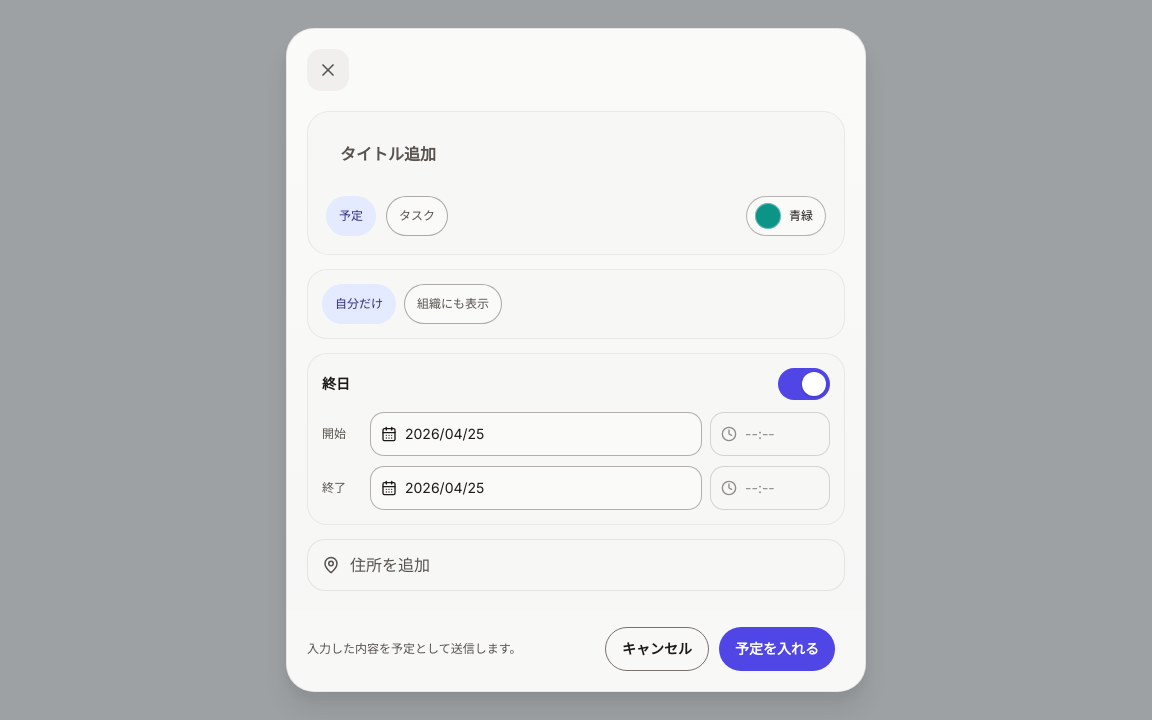
Test: CalendarScheduleModal › moves from start date to end date in the same picker
Step 1. Click the button named "開始日" → x=445, y=434, box [370, 412, 702, 456]
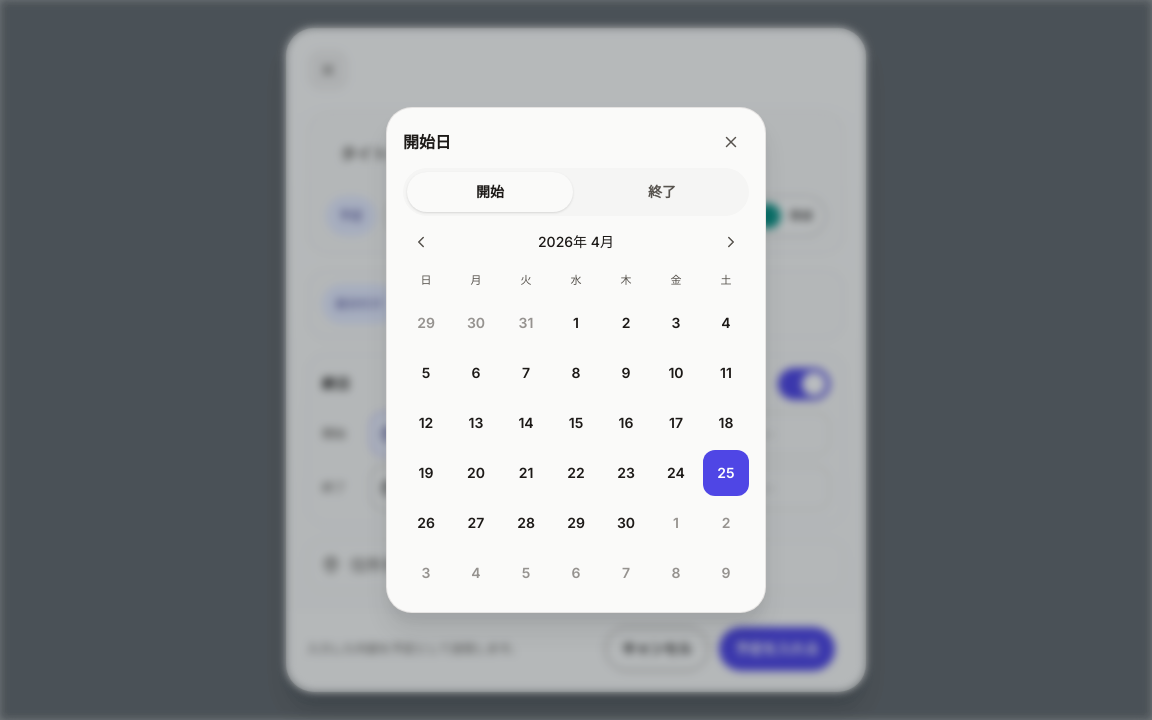
Step 2. Click the button "26" → x=426, y=523, box [403, 500, 449, 546]
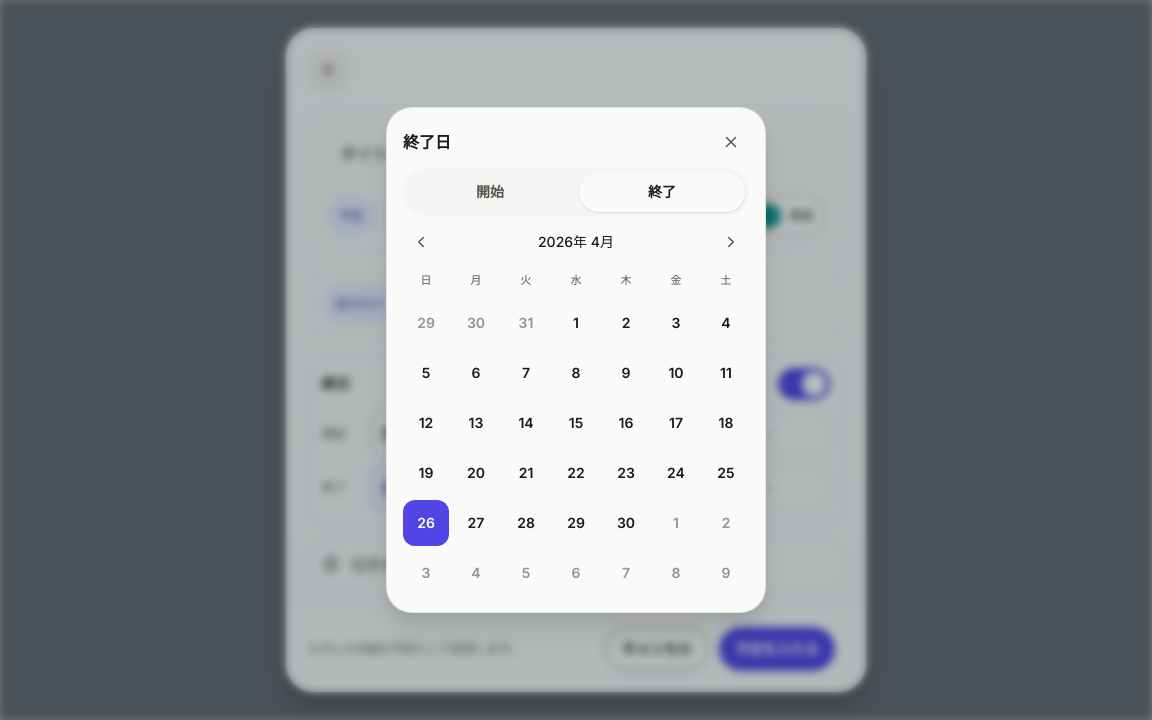
Expected: the button named "開始日" reads "2026/04/26", [370, 412, 702, 456]
Result: the dialog named "終了日を選択" is shown at [386, 107, 766, 613]
Step 3. Click the button "27" → x=476, y=523, box [453, 500, 499, 546]
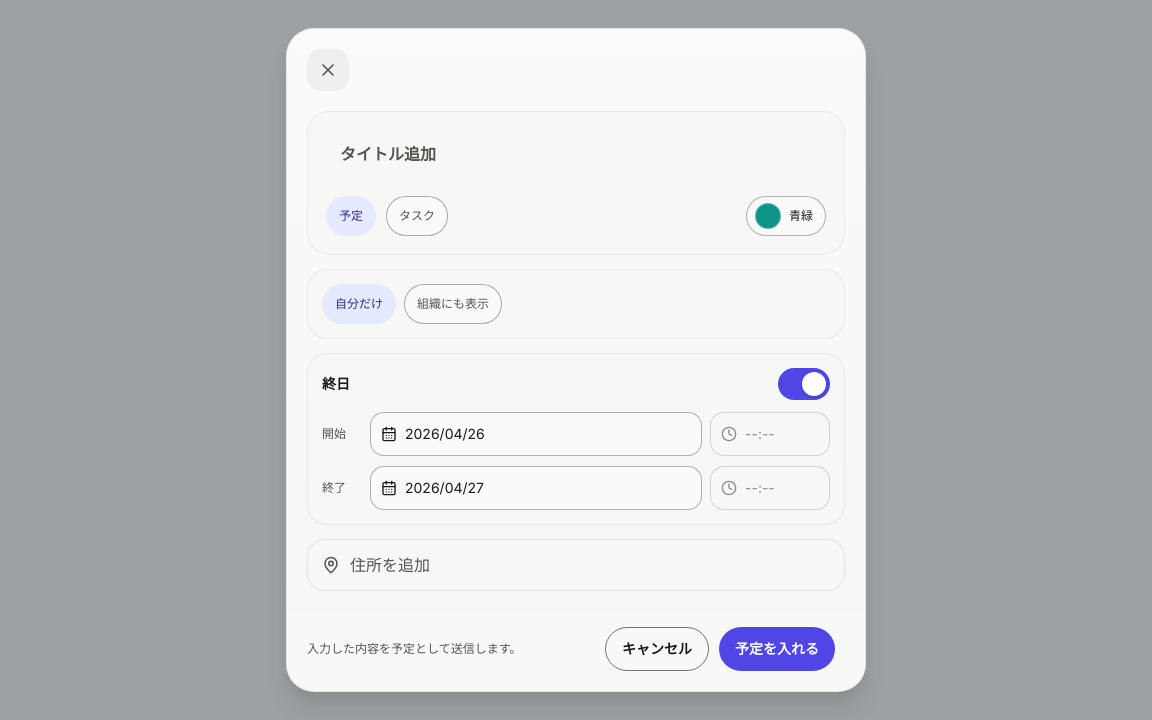
Result: the dialog "終了日を選択" is gone
Result: the button named "終了日" reads "2026/04/27" at [370, 466, 702, 510]
